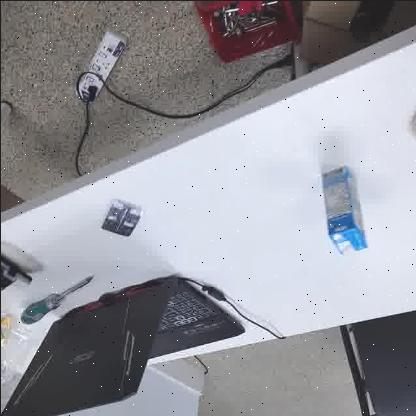Others: (314, 158, 376, 260)
